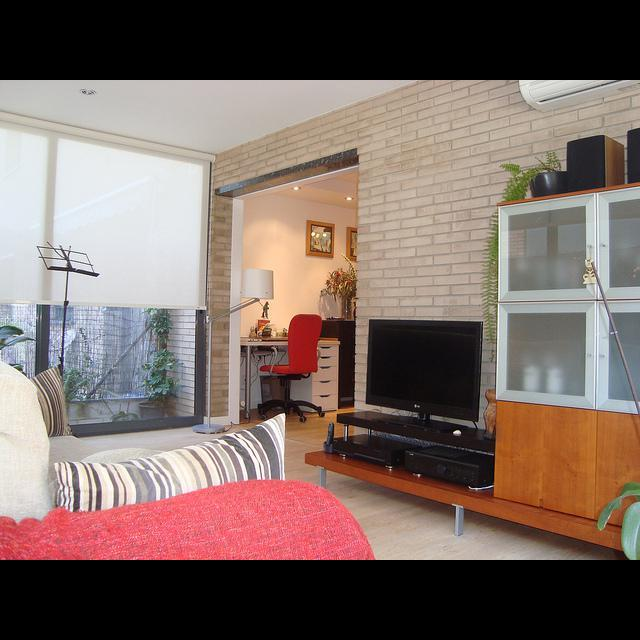Flat-Panel-TV: (368, 321, 482, 423)
